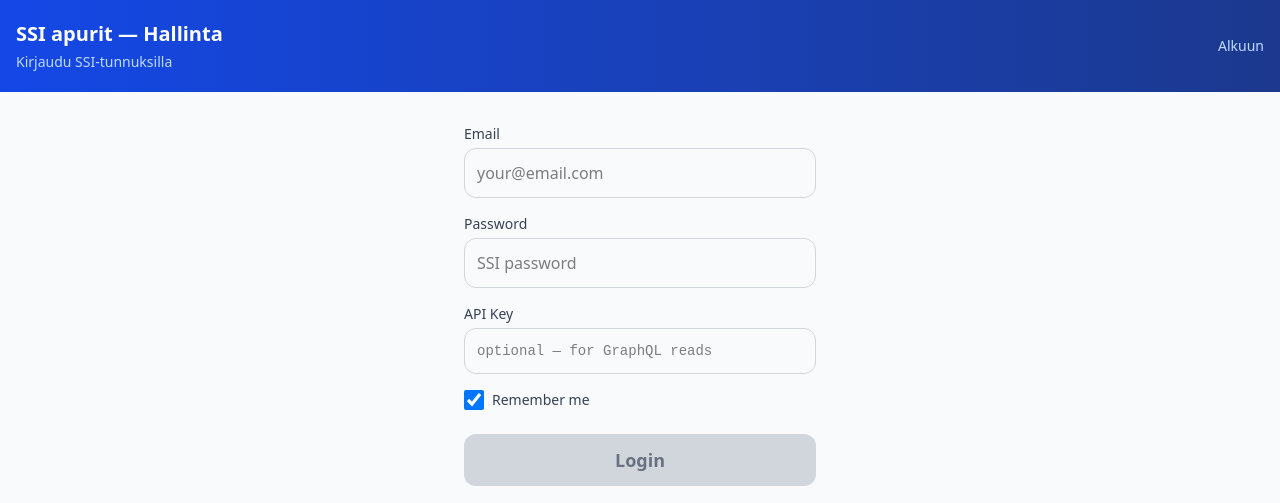
Scenario: Manage session bootstrap › keeps explicit Manage login working after an unauthenticated bootstrap
Type "manager@example.com" into the field with placeholder "your@email.com".
click(640, 173); type("manager@example.com")  # box x1=464 y1=148 x2=816 y2=198
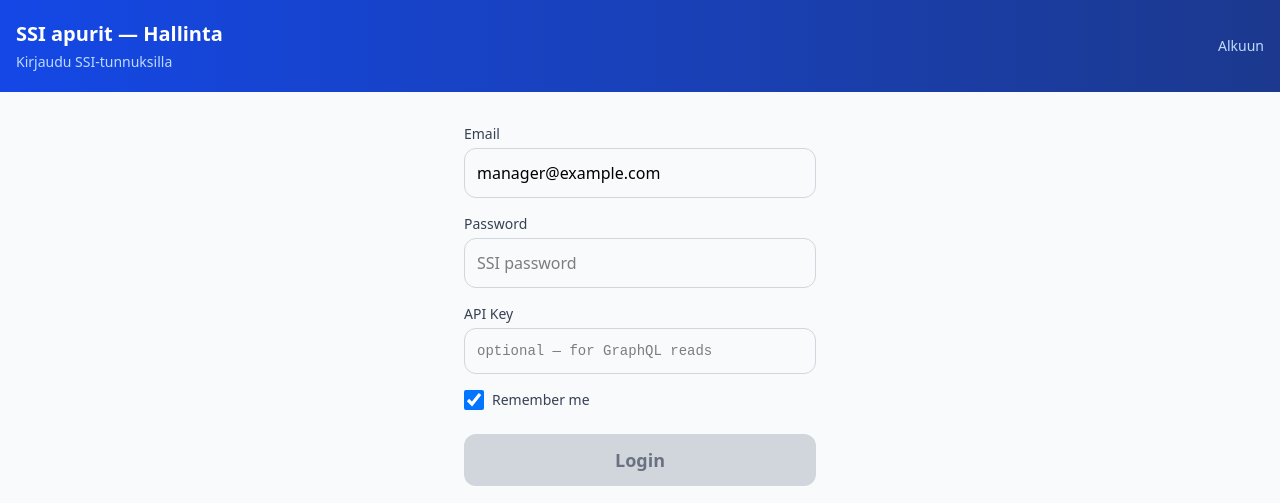
Type "test-password" into the password field with placeholder "SSI password".
click(640, 263); type("test-password")  # box x1=464 y1=238 x2=816 y2=288
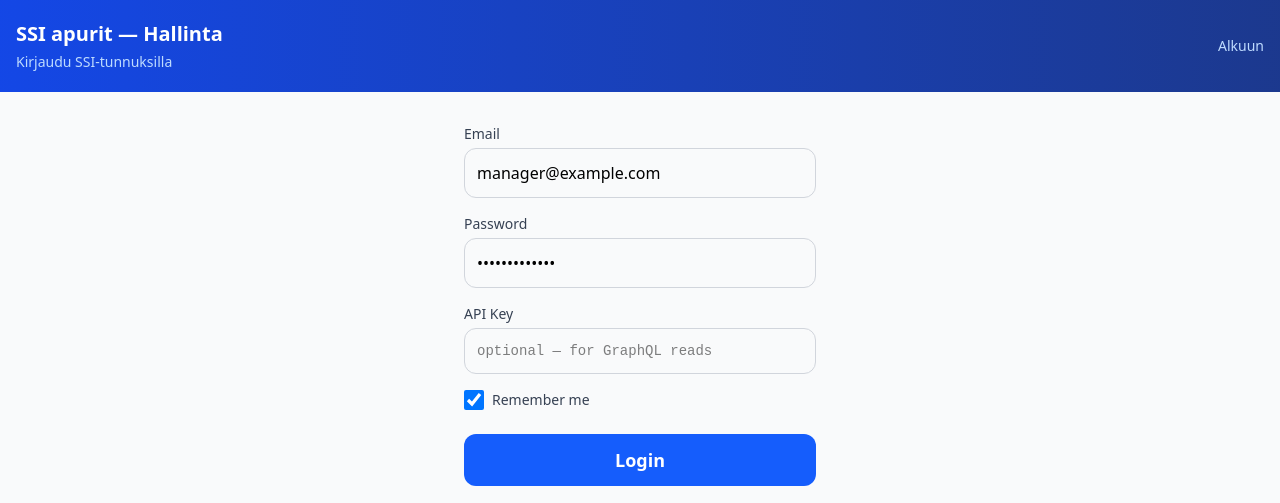
Click the button "Login".
click(640, 460)  # box x1=464 y1=434 x2=816 y2=486
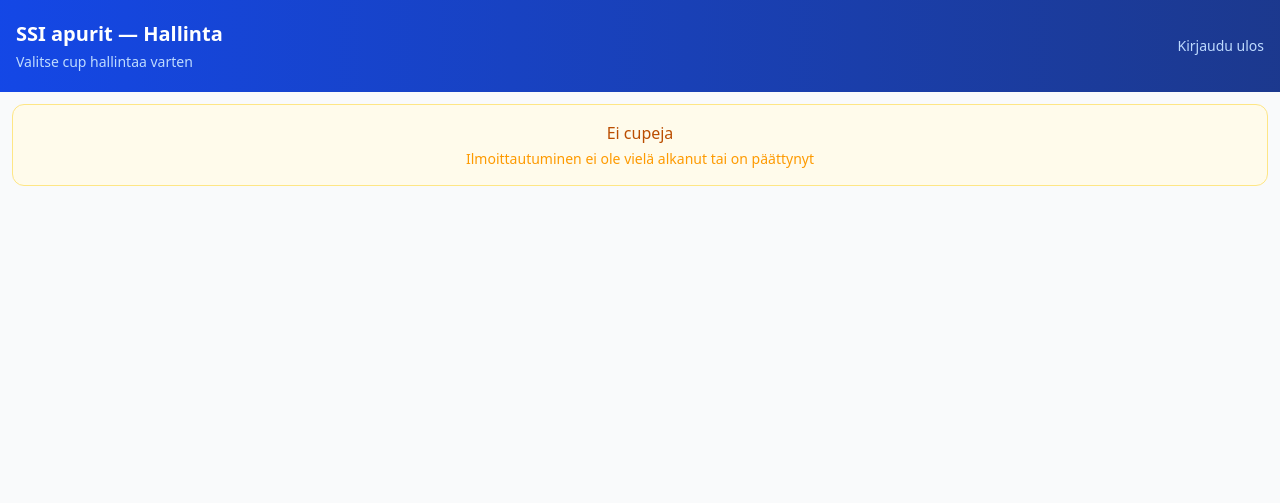
Expected: the text "Ei cupeja" is shown, x1=607 y1=122 x2=673 y2=144
